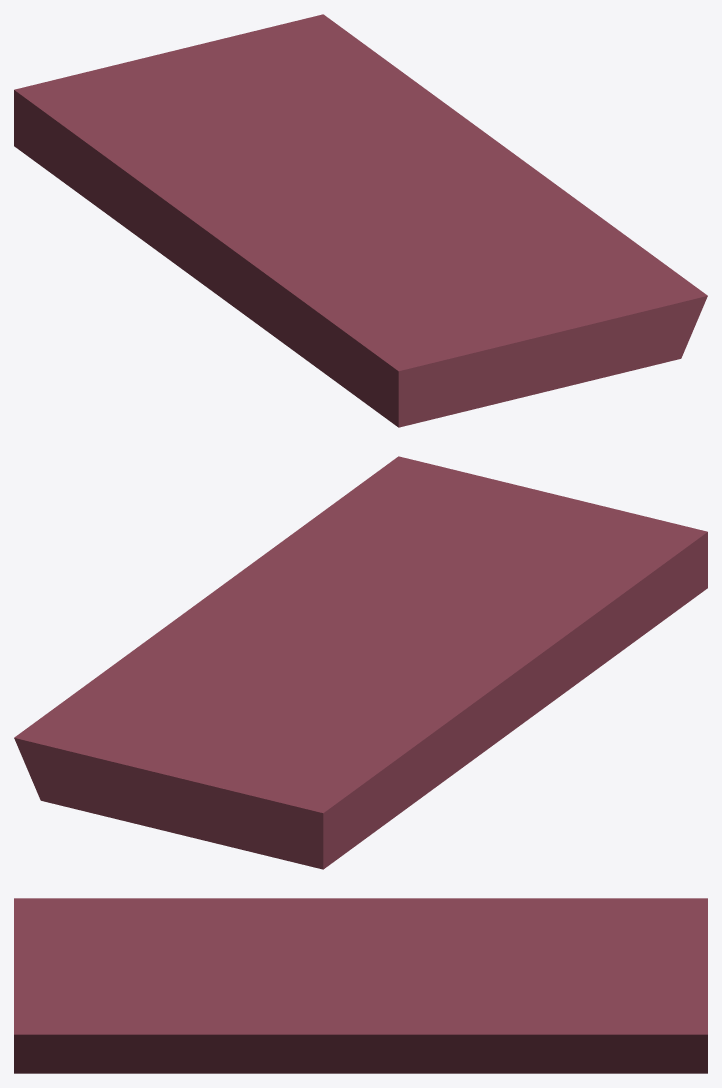
The picture shows the model from 3 angles, top to bottom: view 1: azimuth 30°, elevation 25°; view 2: azimuth 150°, elevation 25°; view 3: azimuth 270°, elevation 25°; orthographic projection. The views are drawn at different scales.
Visible parts, largest first — view 1: geometry_13; view 2: geometry_13; view 3: geometry_13.
Boxes of the visible parts, x1=… form: geometry_13: x1=14, y1=14, x2=707, y2=427; geometry_13: x1=14, y1=456, x2=707, y2=869; geometry_13: x1=14, y1=898, x2=707, y2=1073.
Bounding box in the file's own units: 0.0186 × 0.00324 × 0.04.
